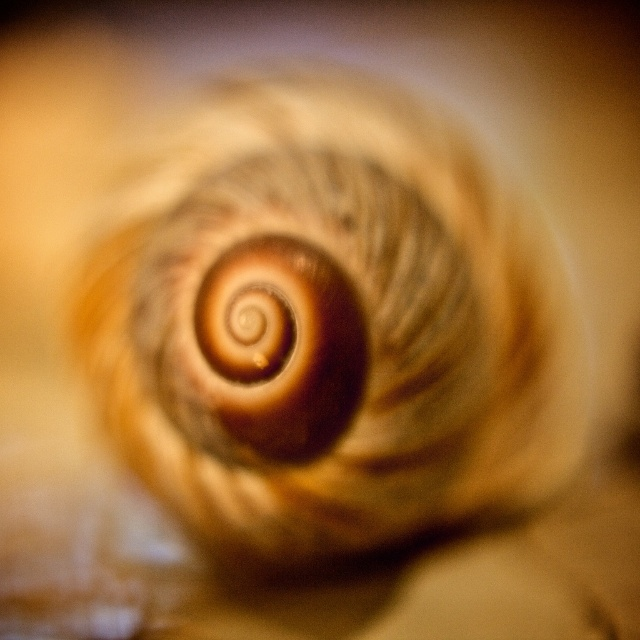Snail: (1, 0, 640, 640)
